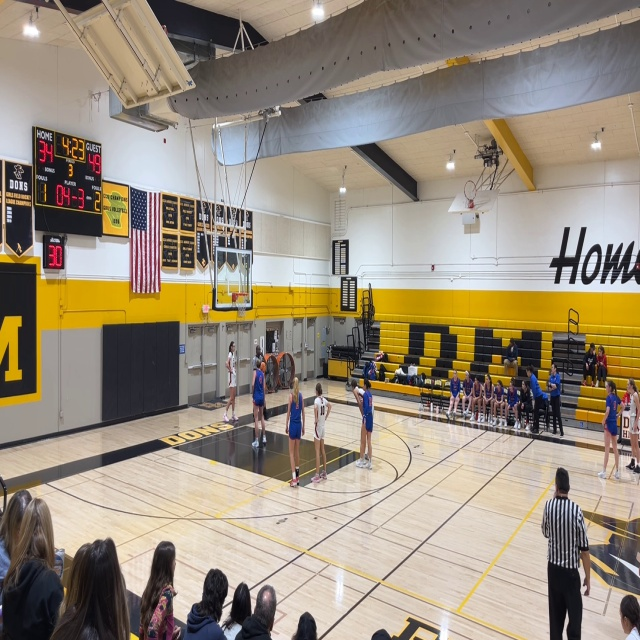Basketball: (259, 362, 267, 372)
